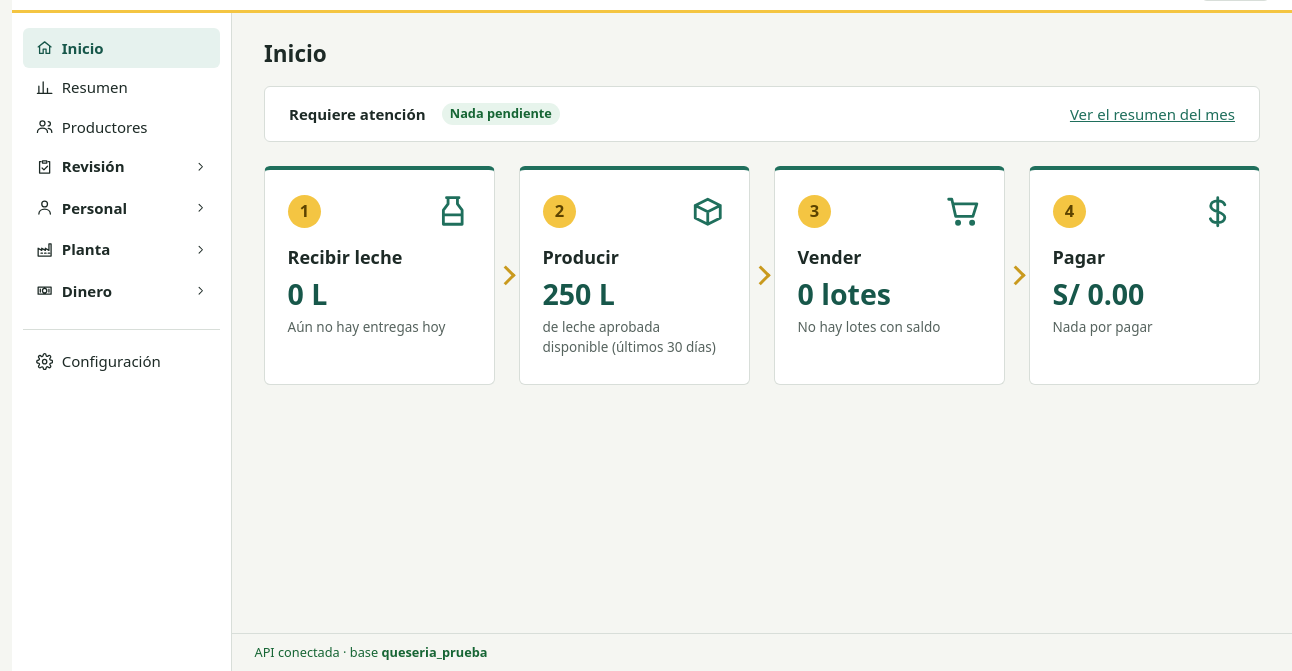
Test: producción › el menú (grupo Planta) lleva a Producción; solo recetas activas y jornadas con leche disponible
Click the button "Planta".
click(122, 249)  # box [23,230,220,269]
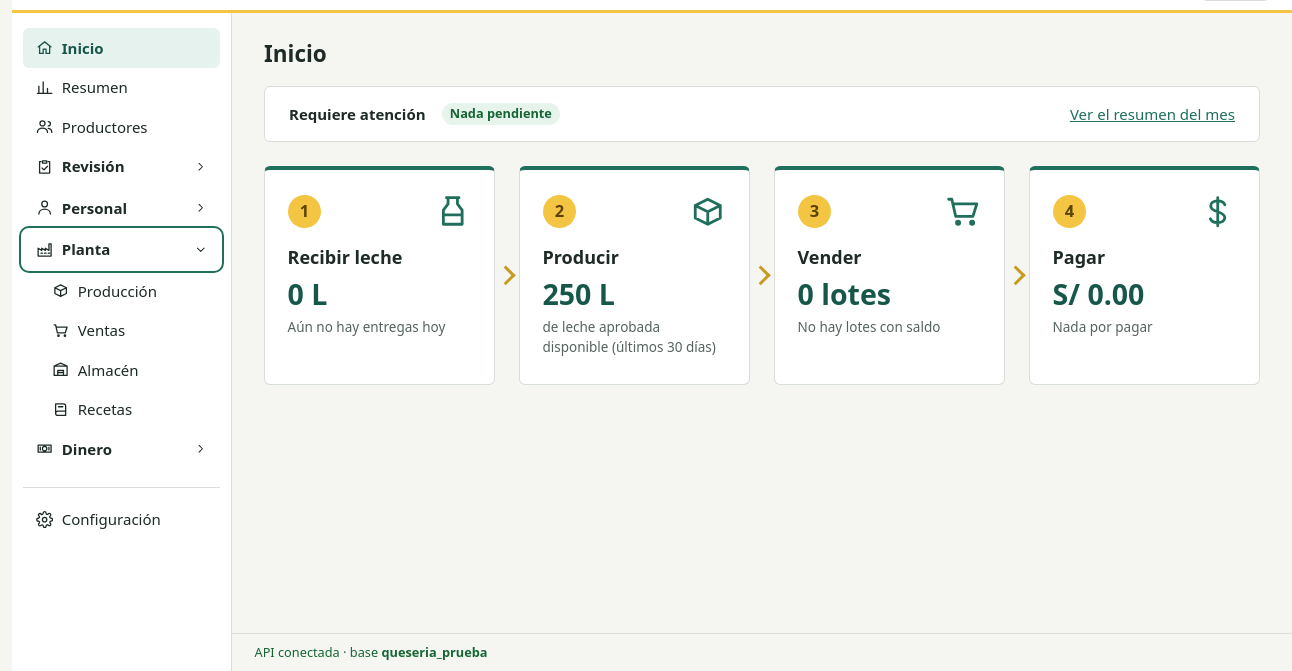
Click the link "Producción".
click(104, 290)  # box [52,280,157,300]
(page scrolled)
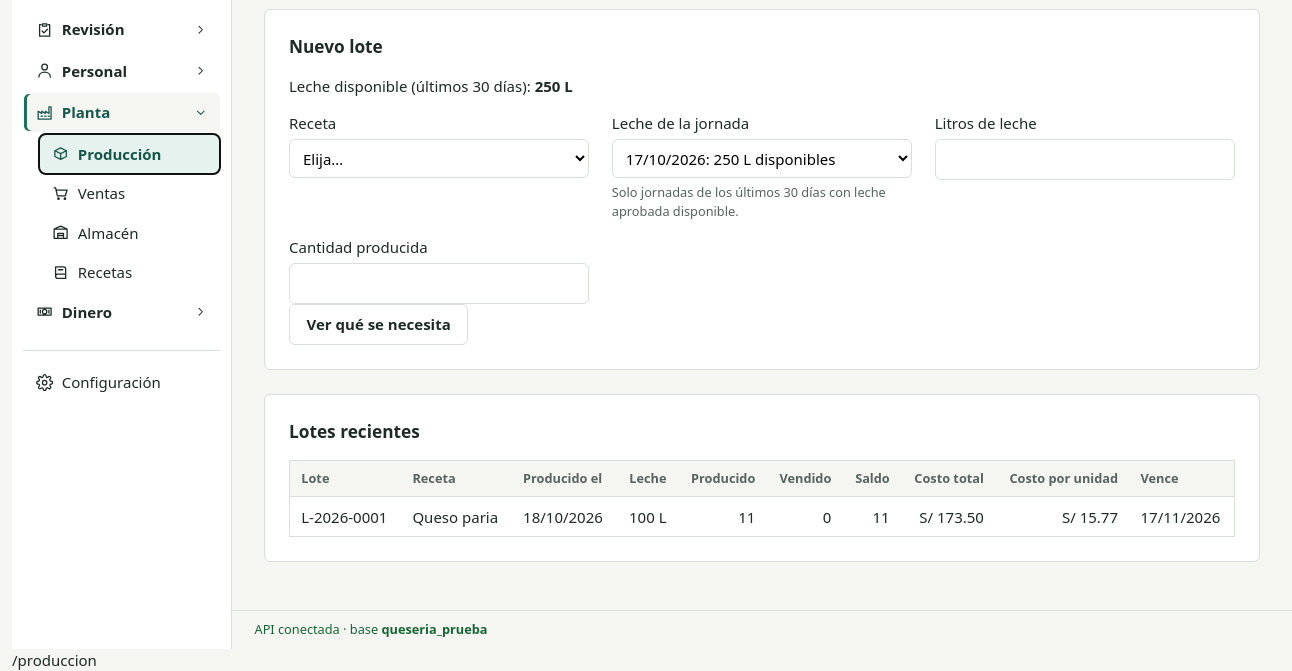
Expected: the text with test id "ubicacion" reads "/produccion", [12,650,97,670]
